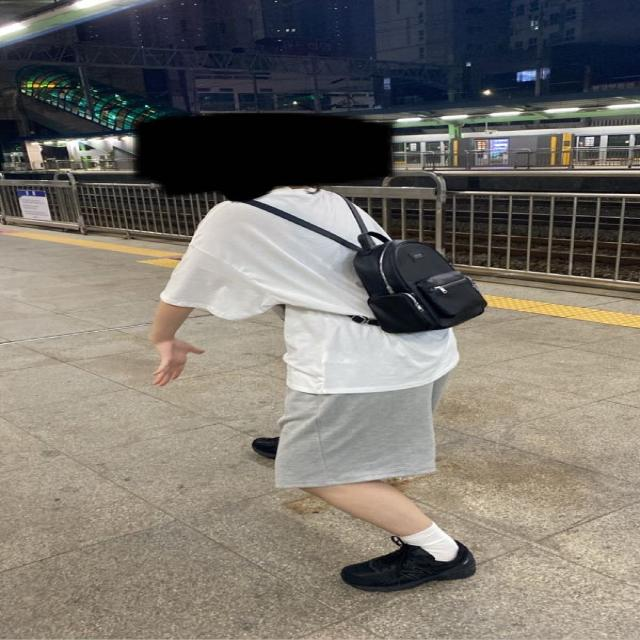shortpants: (279, 370, 459, 488)
shortsleeve: (164, 184, 464, 390)
